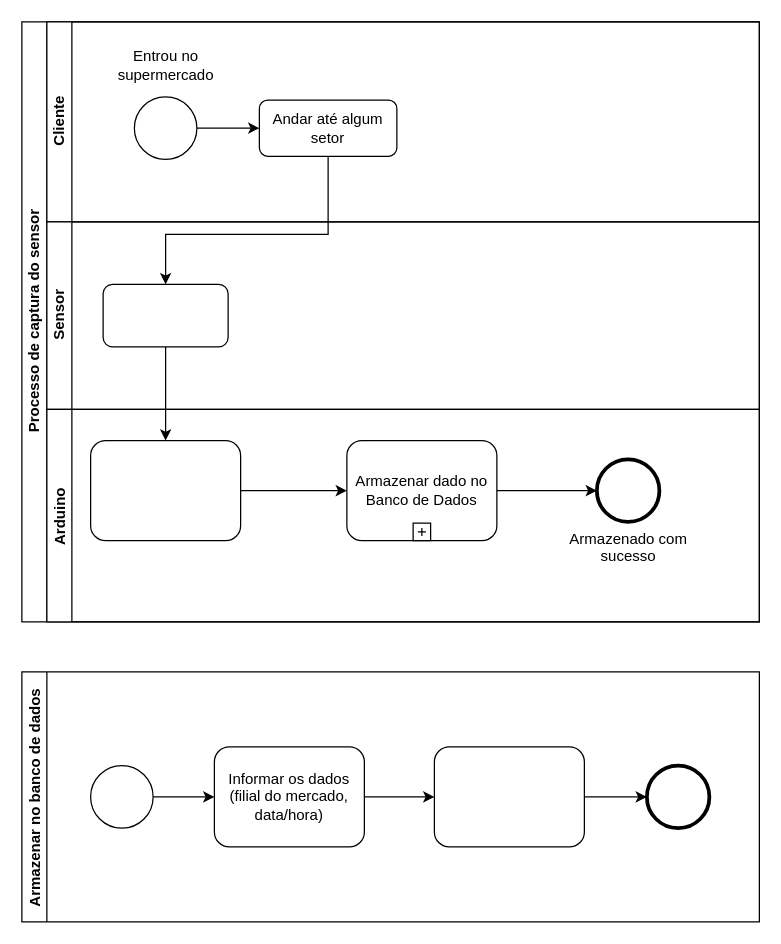
Some shapes in this 781 by 944 pixel diagram are drawn without their labels. The centre of each missing label's shape, as x and y in pixels:
"Abriu uma conexão" goes at (121,796).
"Contabilizar o sinal do sensor" goes at (165,490).
"Detectar movimento" goes at (165,315).
"Fechar conexão" goes at (677,796).
"Inserir os dados na tabela de movimento" goes at (508,796).
